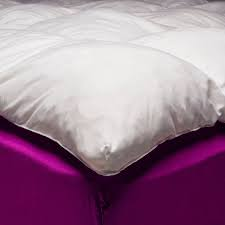bed-matress: (1, 1, 224, 178)
